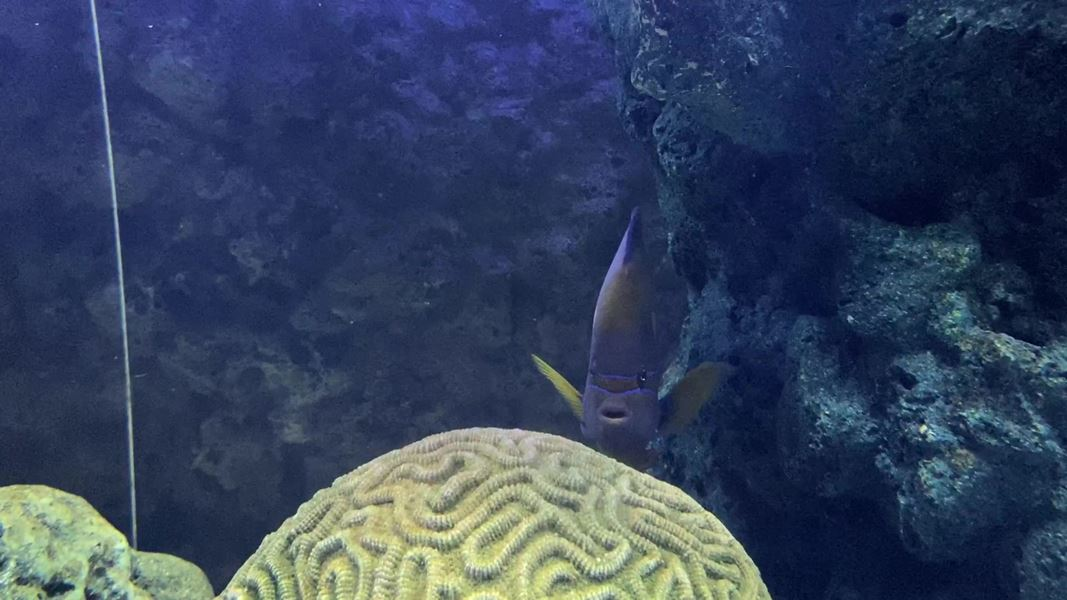Blue ring angelfish: (531, 191, 752, 482)
